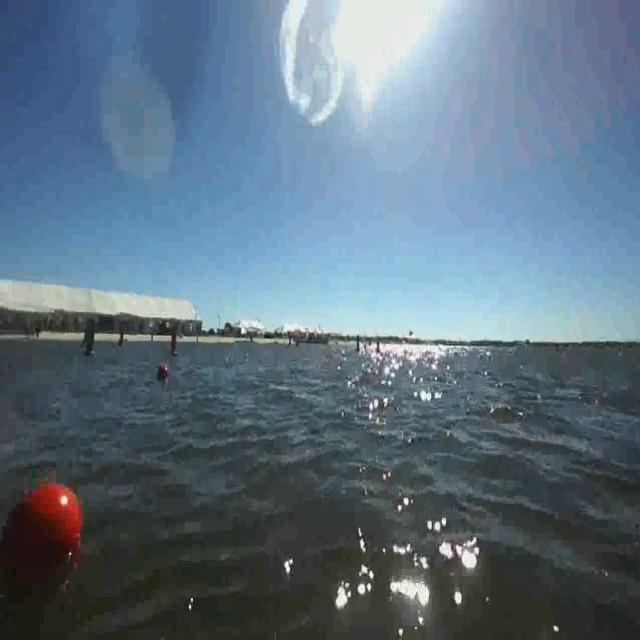green-column-buoy: (82, 318, 98, 358), (117, 323, 125, 347)
red-buoy: (1, 484, 81, 564), (160, 362, 170, 377)
red-column-buoy: (119, 325, 128, 349), (171, 333, 178, 358)
